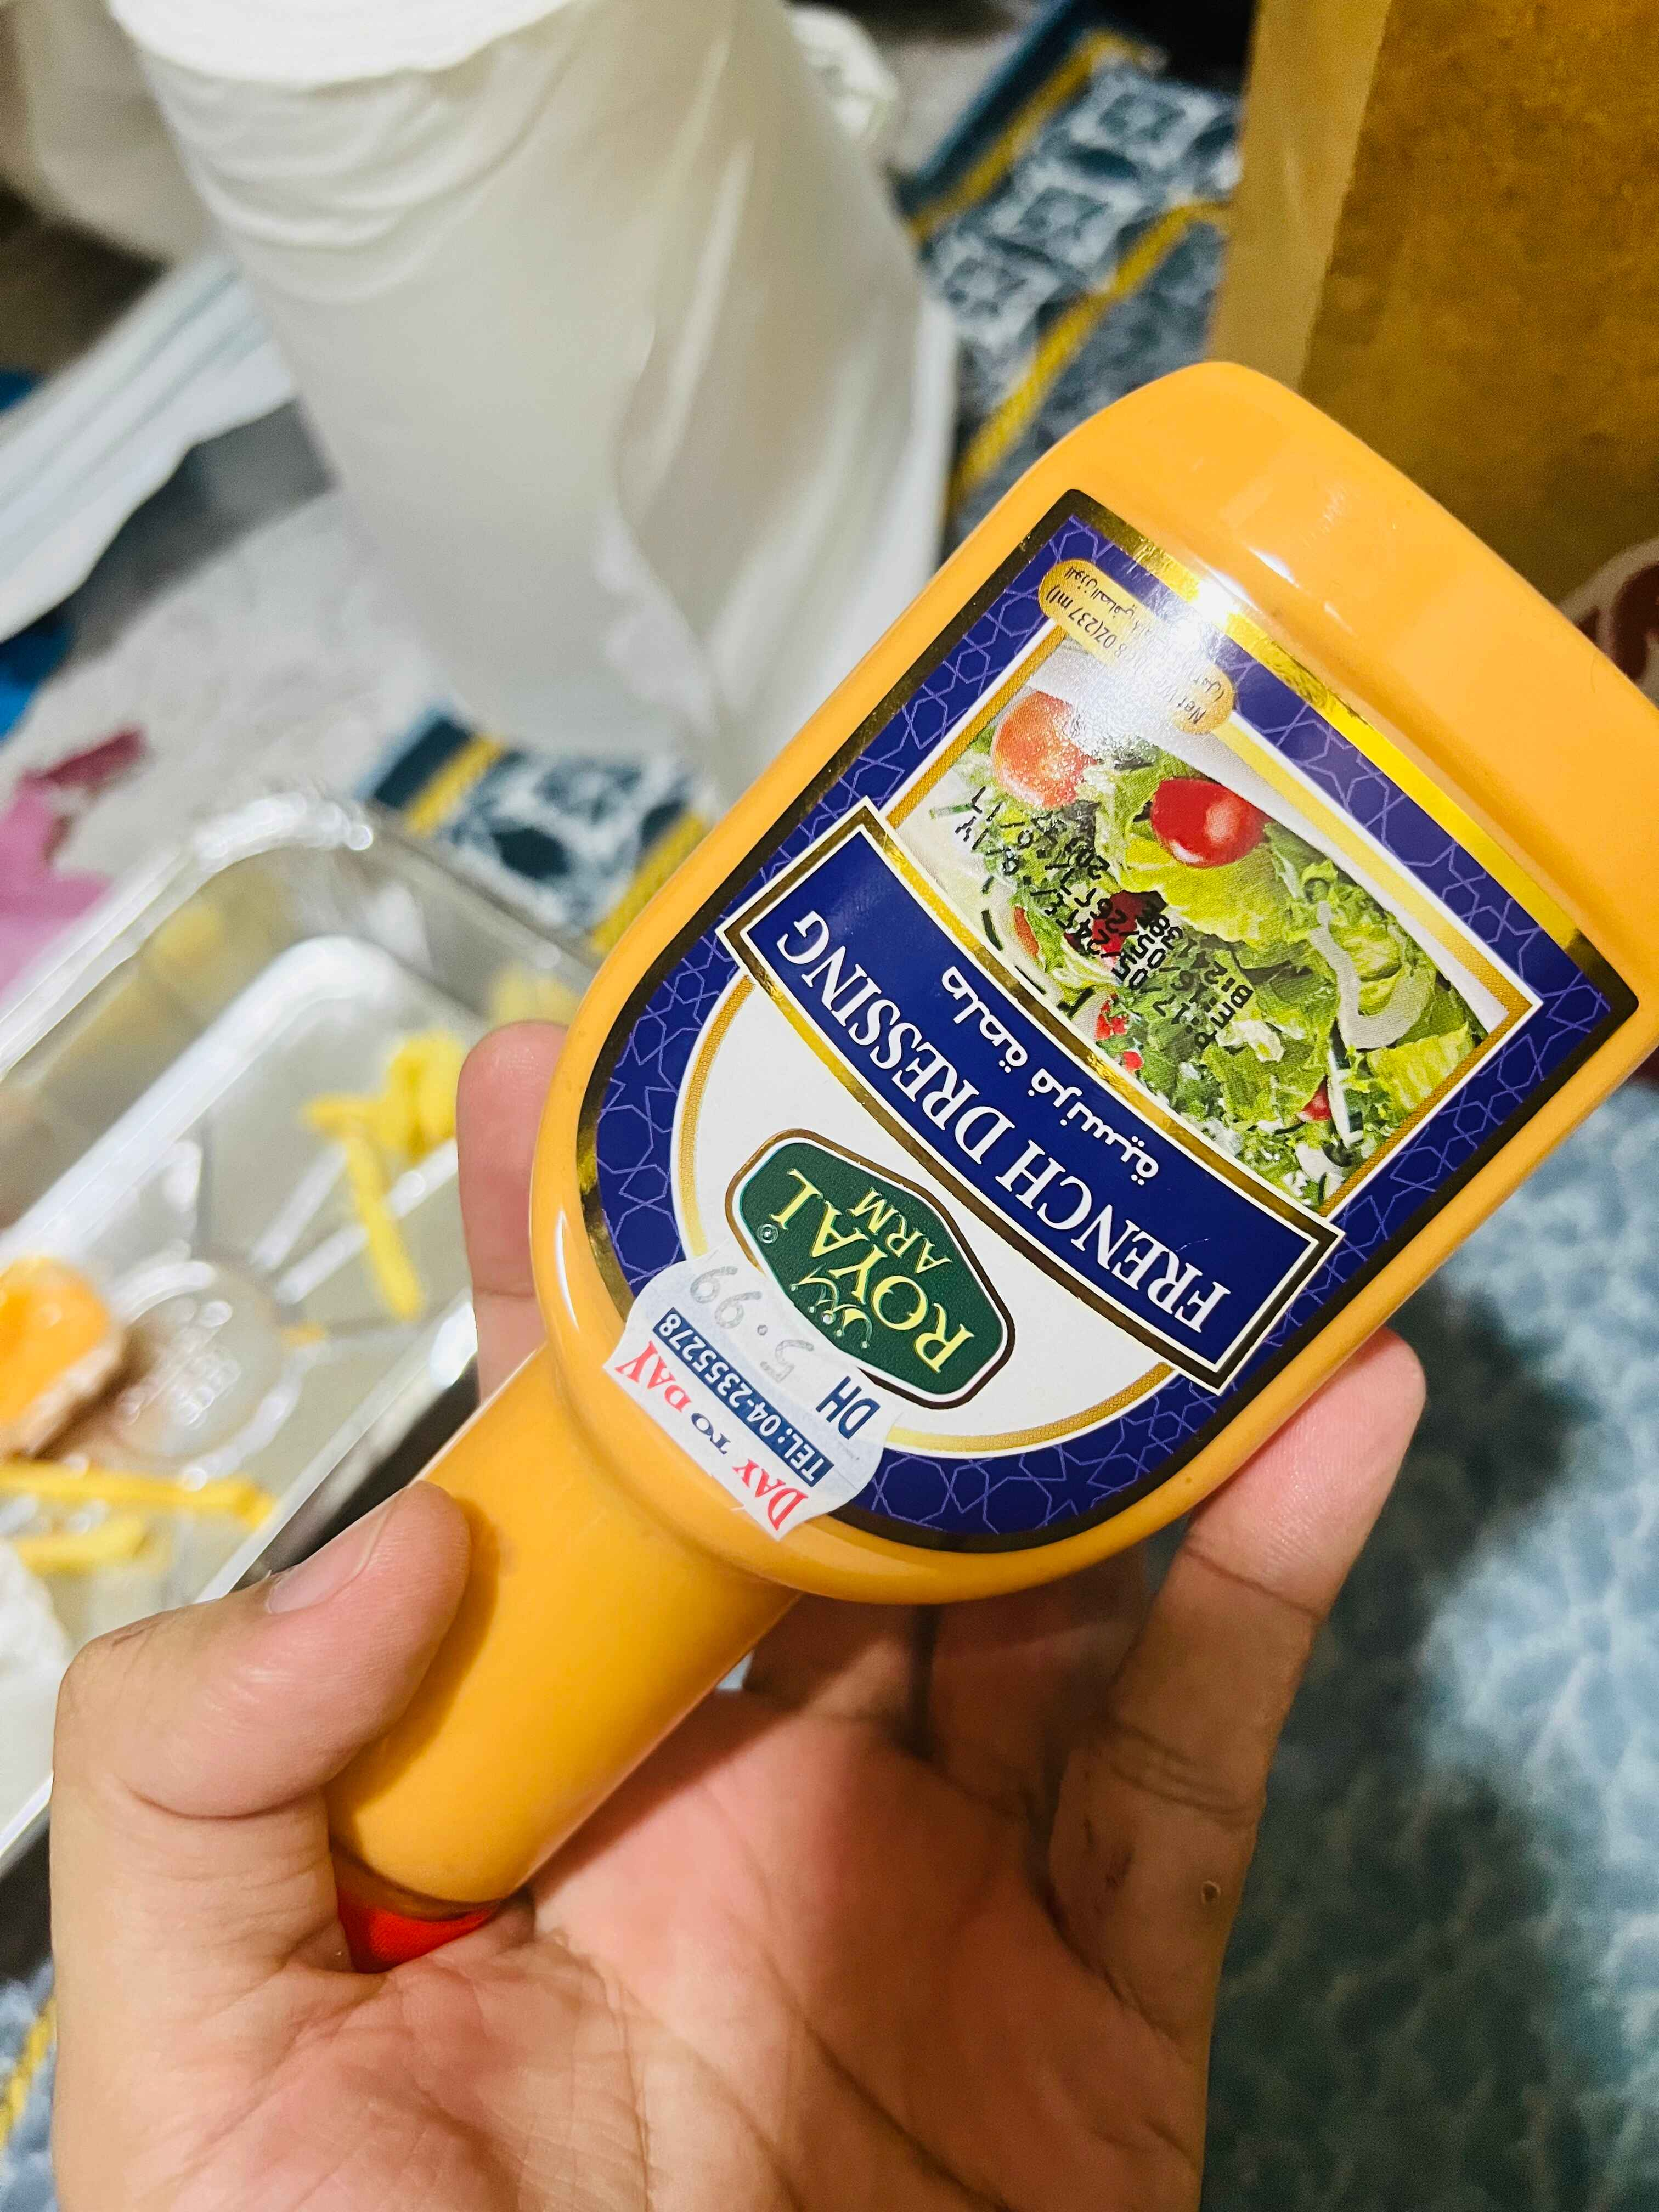PriceTagSmall: (598, 1244, 899, 1548)
